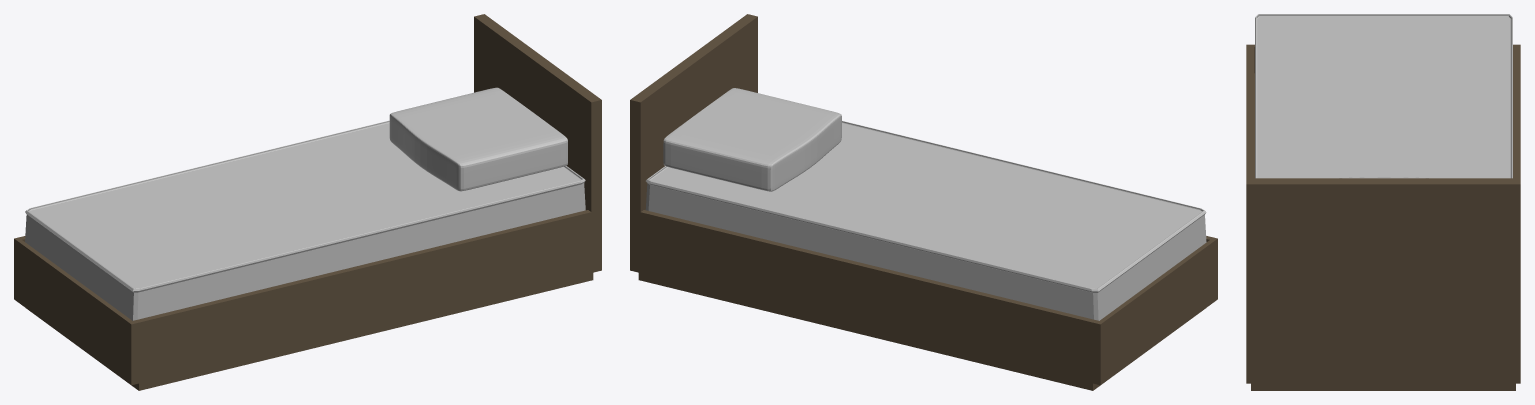
Rendered from Bed.fbx.
The picture shows the model from 3 angles, left to right: view 1: azimuth 30°, elevation 25°; view 2: azimuth 150°, elevation 25°; view 3: azimuth 270°, elevation 25°; orthographic projection. The views are drawn at different scales.
Parts seen in each view (by area): view 1: Bed; view 2: Bed; view 3: Bed.
Boxes of the visible parts, box(x1,y1,x2,y2) form: Bed: box(14, 14, 601, 390); Bed: box(630, 14, 1217, 390); Bed: box(1246, 14, 1520, 390).
Size of the model in its own units: 792 by 290 by 342.
